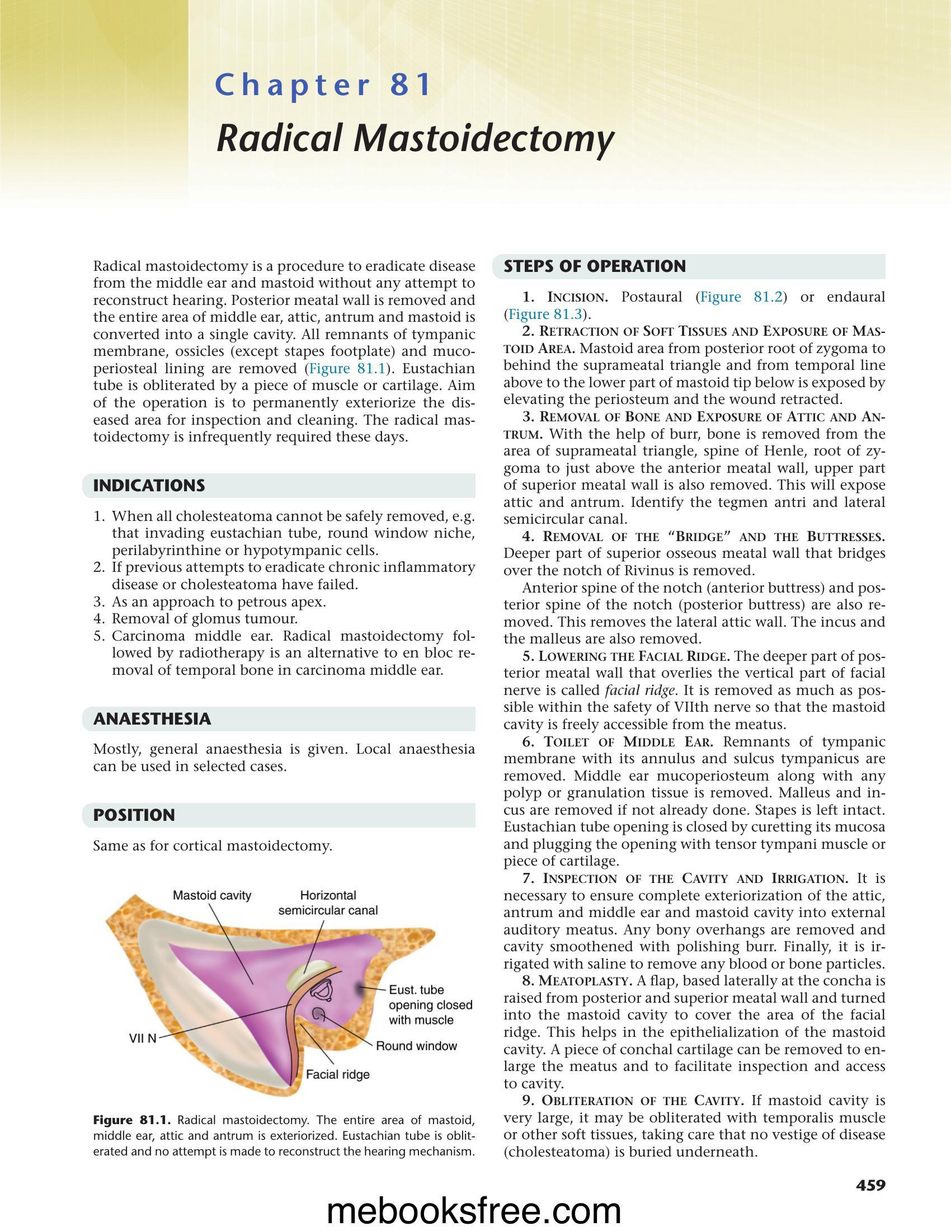caption: (92, 1113, 478, 1160)
chapter-heading: (215, 119, 618, 164)
image: (93, 870, 487, 1109)
list: (502, 288, 887, 1160), (93, 509, 477, 681)
section-heading: (503, 258, 687, 273), (92, 477, 206, 493), (92, 711, 213, 726), (92, 807, 176, 822)
text: (92, 257, 477, 448), (92, 742, 476, 773), (93, 839, 333, 856)
